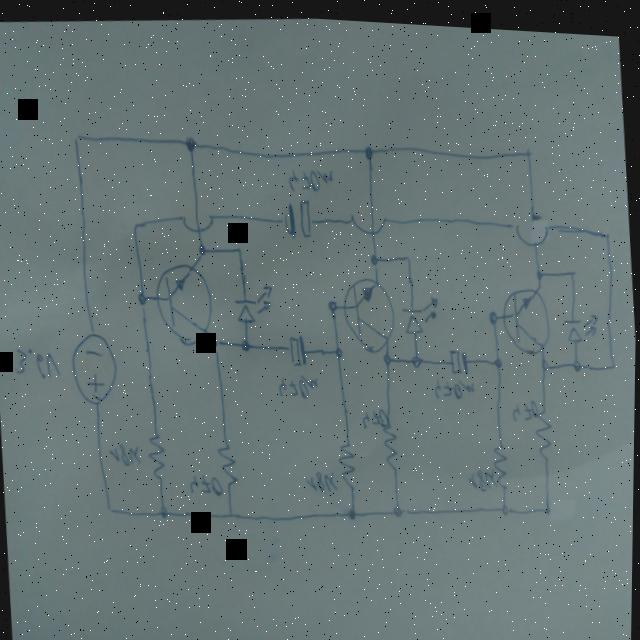capacitor: (286, 192, 314, 238), (288, 329, 309, 367), (448, 341, 472, 371)
crossover: (512, 203, 553, 242), (347, 206, 390, 234), (180, 209, 216, 233)
diode: (233, 277, 276, 324), (400, 288, 441, 333), (563, 302, 602, 339)
junction: (184, 133, 199, 152), (392, 498, 405, 515), (327, 292, 339, 310), (410, 348, 423, 364), (487, 304, 500, 319), (210, 330, 222, 346), (500, 495, 512, 511), (363, 140, 374, 157), (72, 130, 83, 147), (160, 503, 172, 518), (572, 351, 584, 366), (334, 340, 345, 356), (369, 247, 380, 263), (240, 335, 252, 349), (543, 497, 555, 511), (383, 347, 394, 362), (602, 221, 613, 236), (540, 351, 551, 365), (534, 262, 545, 276), (347, 503, 358, 516), (137, 290, 148, 303), (494, 351, 505, 364), (607, 351, 618, 364), (198, 240, 208, 254), (235, 240, 245, 254), (405, 247, 415, 261), (523, 141, 534, 153), (107, 502, 117, 515), (567, 260, 577, 273), (131, 218, 140, 232), (228, 505, 237, 518)
resistor: (533, 399, 558, 457), (336, 432, 360, 488), (215, 438, 241, 488), (147, 427, 170, 481), (490, 435, 512, 487), (382, 417, 401, 468)
source: (68, 325, 122, 409)
text: (14, 342, 64, 384), (287, 161, 336, 192), (277, 368, 321, 399), (434, 370, 477, 397), (109, 438, 145, 468), (187, 469, 226, 496), (468, 459, 502, 489), (305, 465, 340, 491), (511, 391, 541, 419), (361, 402, 392, 428)
transistor: (153, 255, 217, 348), (341, 268, 401, 353), (499, 277, 553, 352)
